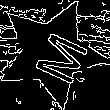M_NW: (19, 21, 85, 84)
